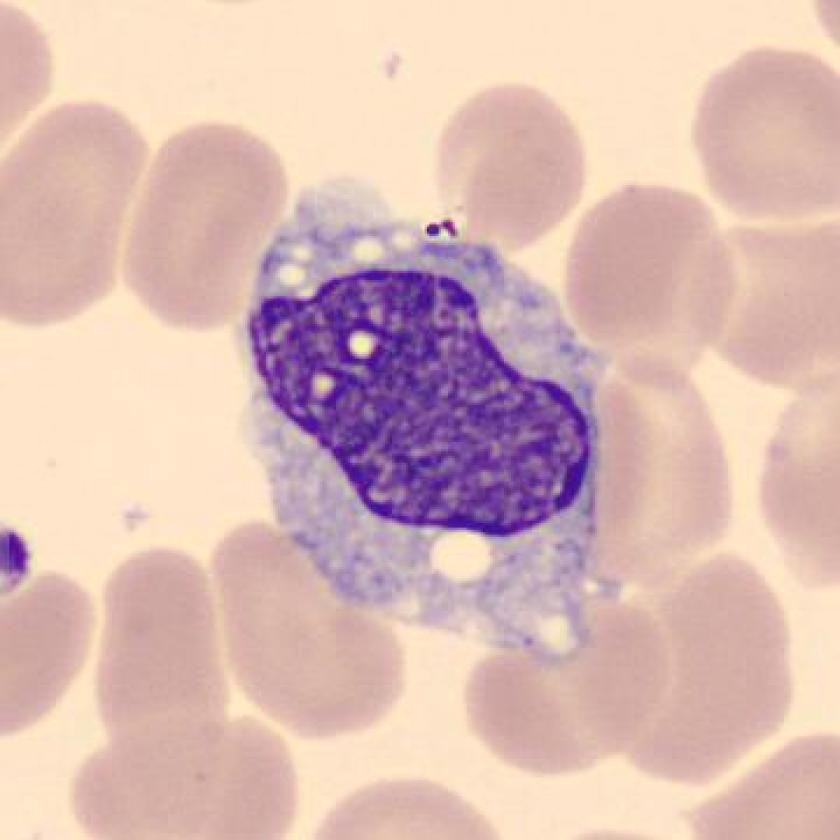monocyte: (220, 151, 629, 686)
